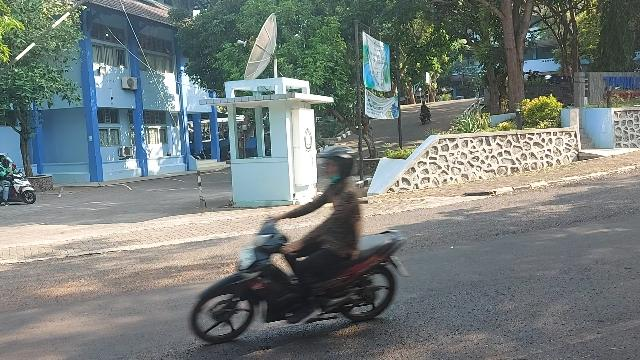helm: (319, 146, 356, 181)
motor: (191, 202, 411, 346)
